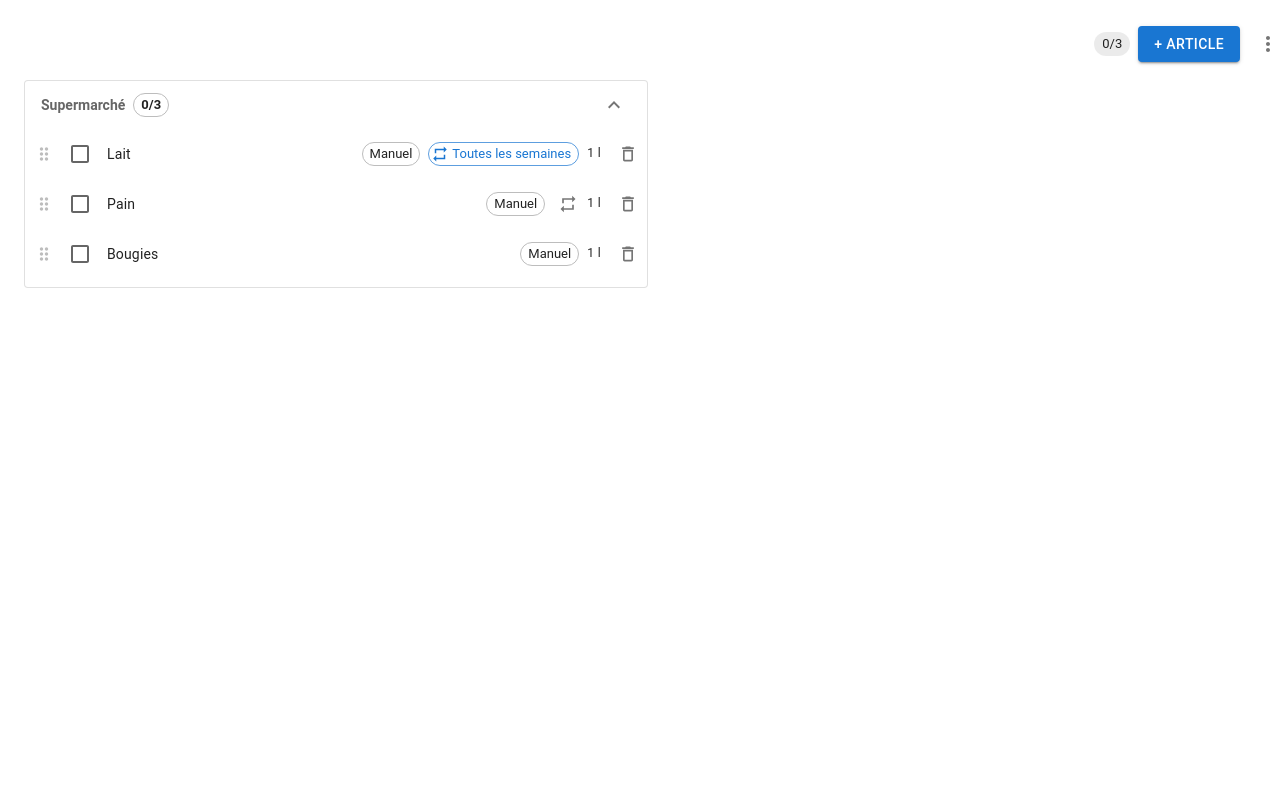
Test: GroceryListView — recurring items › the « Produit récurrent » dialog › the page is the list alone: no tab, the dialog is one entry of the ⋮ menu
Expected: the text "Lait" is shown, [107,146,131,162]
Click the button named "Plus d'actions". click: x=1264, y=44
box: [1248,24,1279,64]
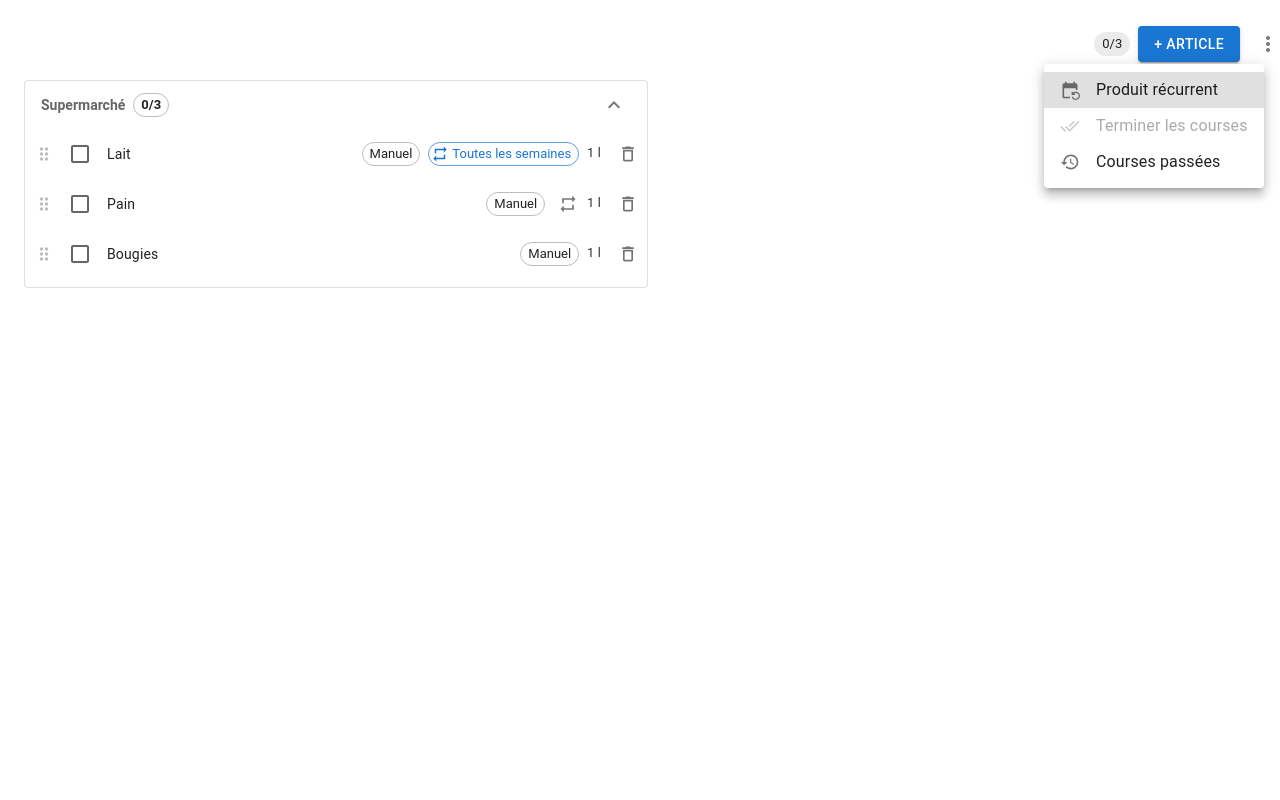
Click the menu item "Produit récurrent". click: x=1154, y=90
box: [1044,72,1264,108]
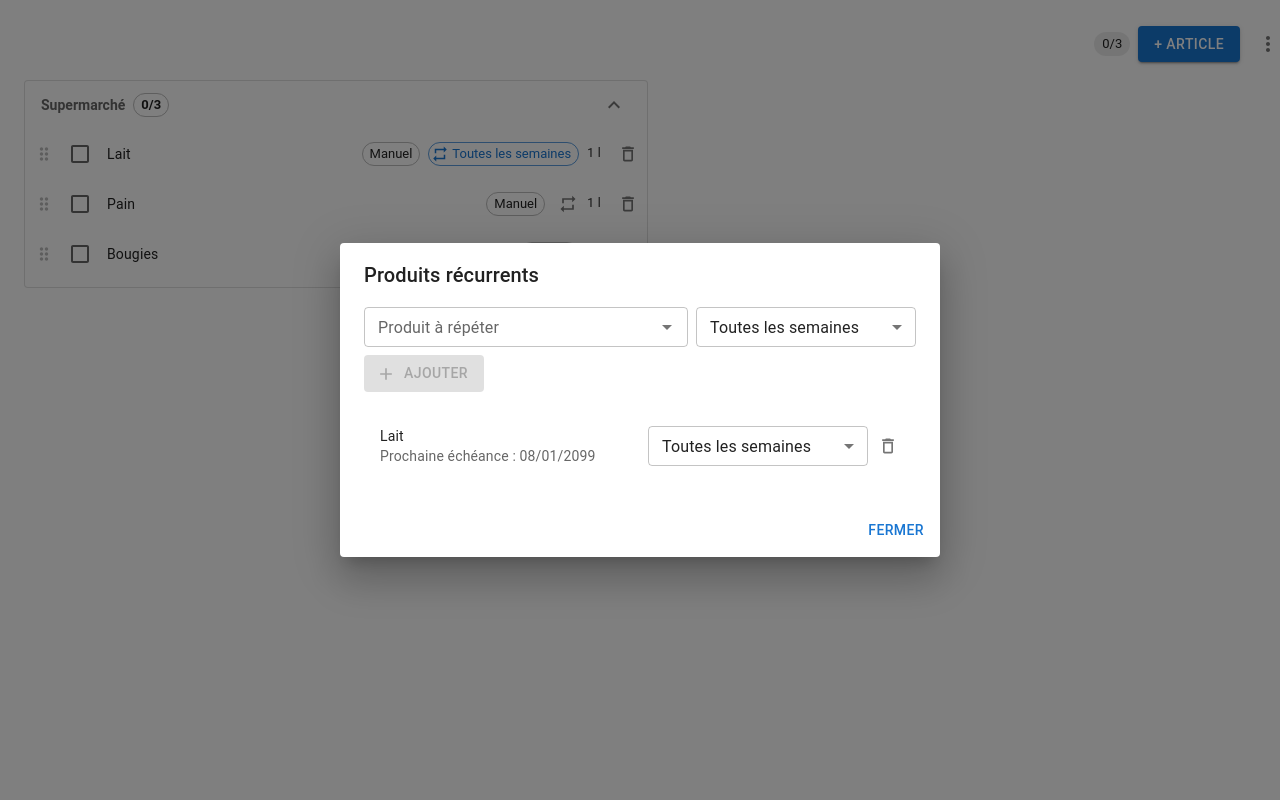
Click the button "Fermer". click: x=896, y=530
box: [860,512,932,548]
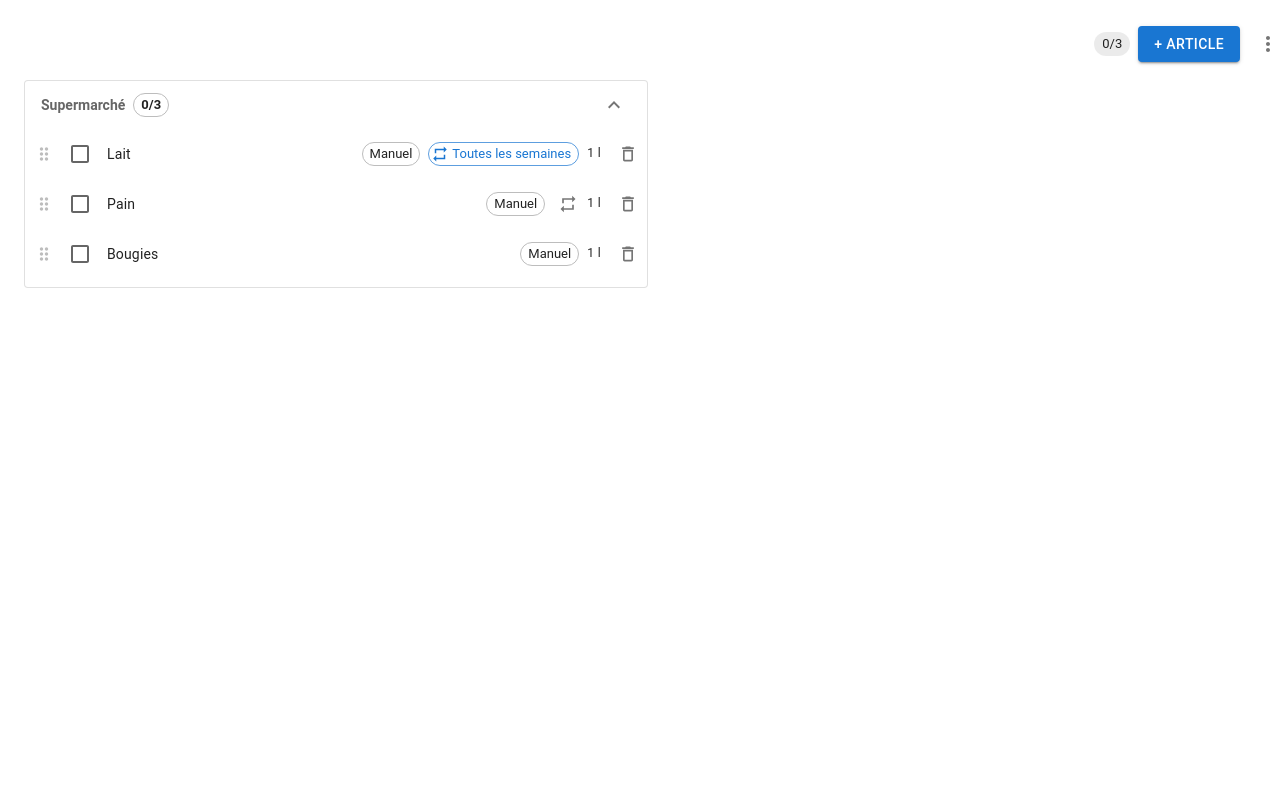
Expected: the text "Lait" is shown, [107,146,131,162]
Expected: the element with test id "recurring-tab" is gone
